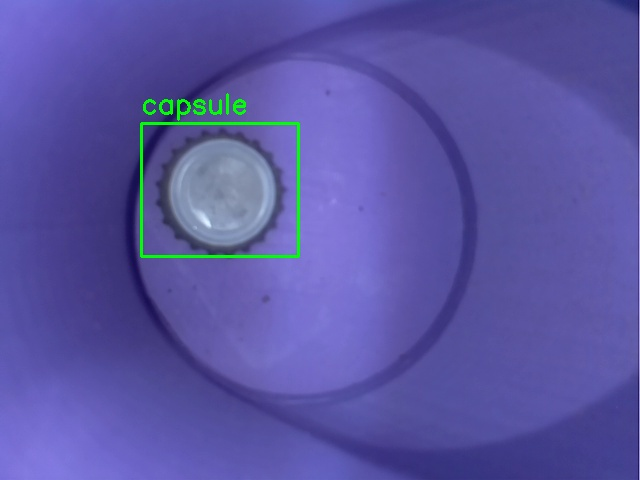capsule: (141, 123, 298, 256)
